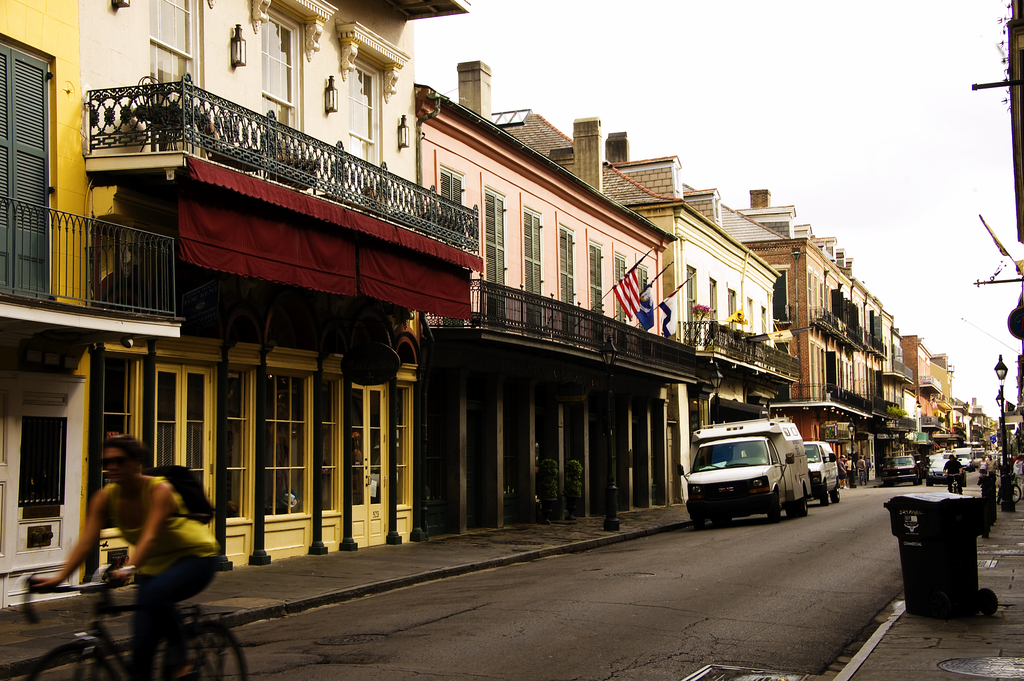Bike: (18, 567, 263, 681)
